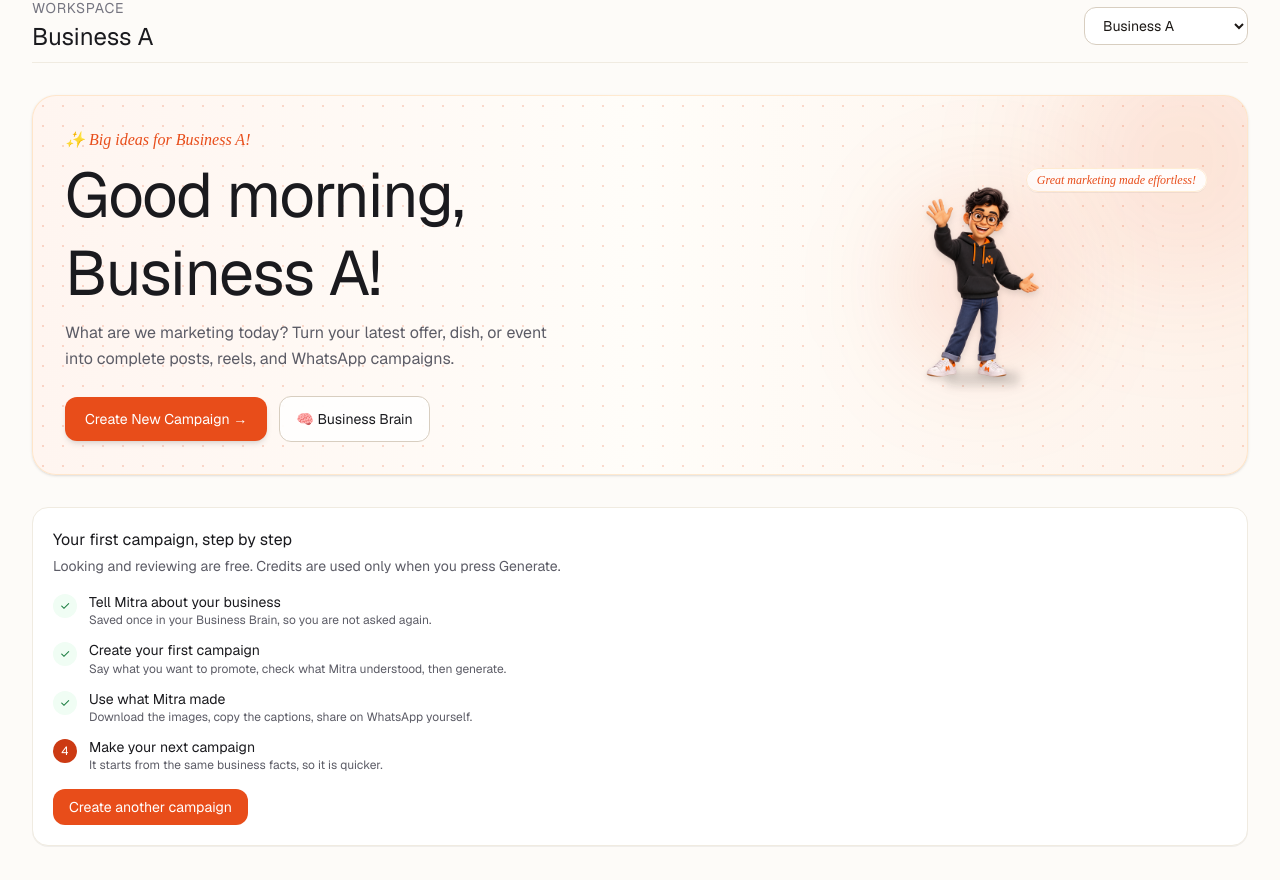
Test: DashboardPage › with multiple businesses, switching the selector reloads campaigns for the newly selected business
The image size is (1280, 880).
Select "Business B" in the dropdown named "select business" at (1166, 26), box [1084,7,1248,45]
(page scrolled)
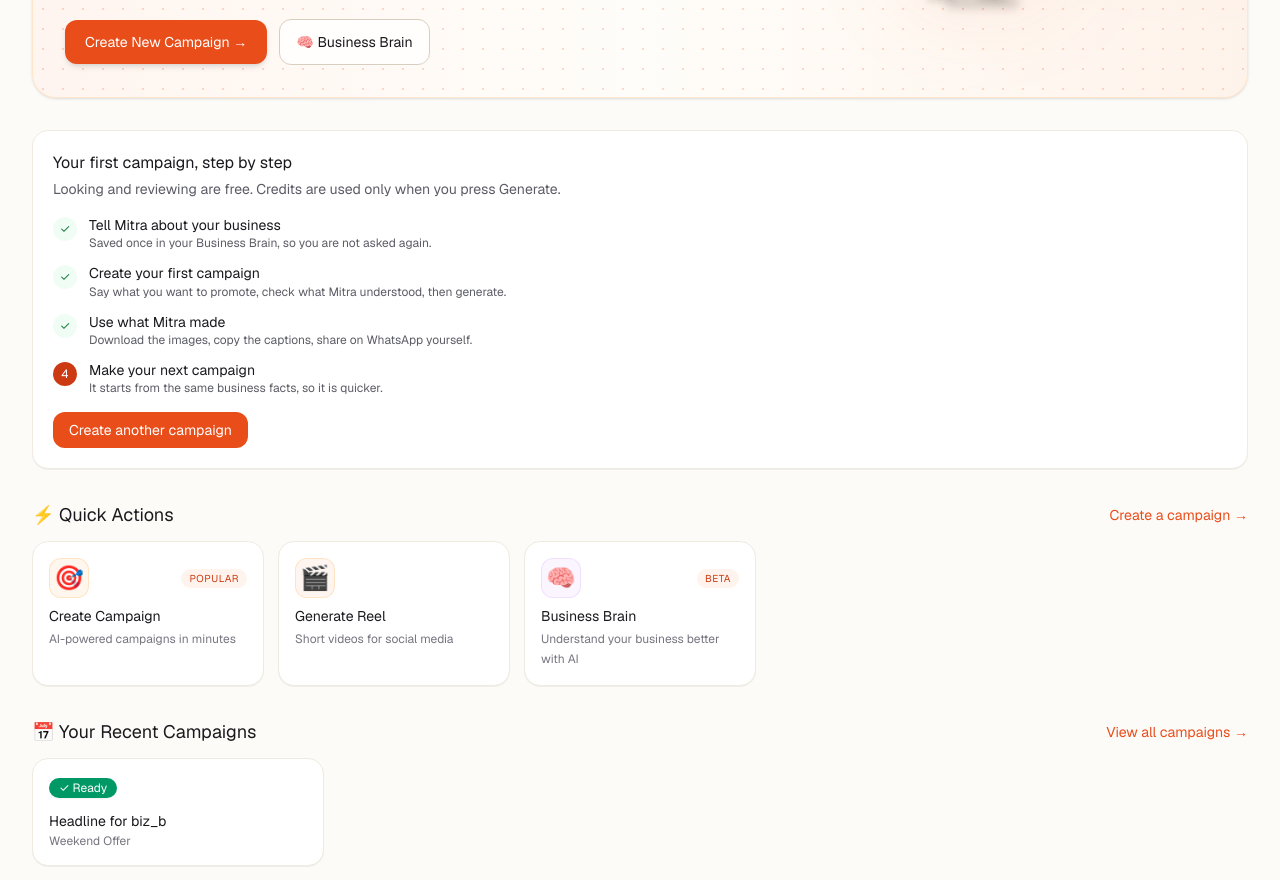
Check: the heading "Headline for biz_b" is shown, box [49,812,166,830]
